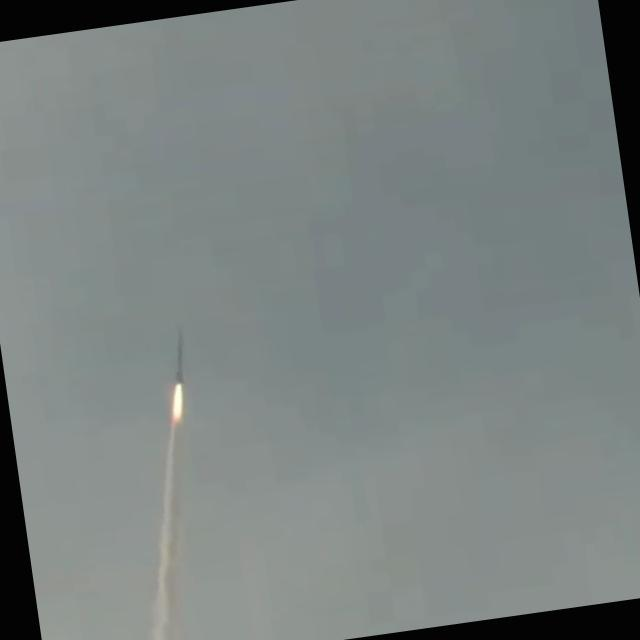rocket: (160, 334, 200, 425)
smoke_trail_with_rocket: (150, 332, 186, 640)
